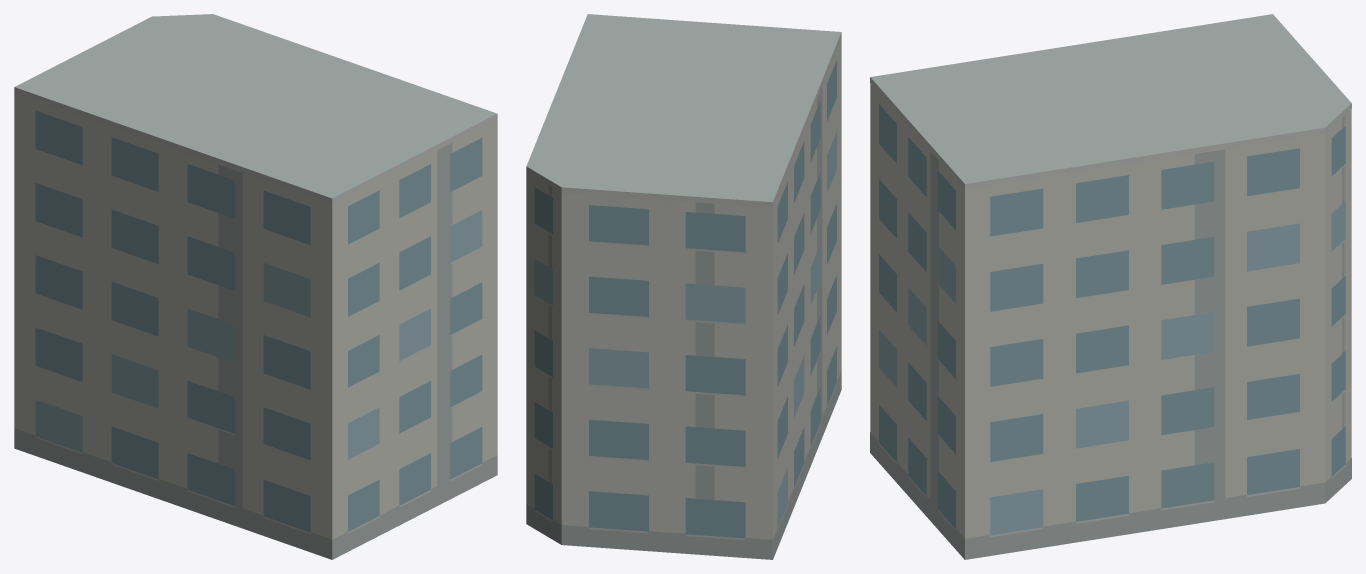
Rendered from survey-upis-32765997.glb.
3 views of the same model, side by side, from view 1: azimuth 30°, elevation 25°; view 2: azimuth 150°, elevation 25°; view 3: azimuth 270°, elevation 25° (orthographic). The views are drawn at different scales.
Visible parts, largest first — view 1: survey-upis-32765997.tmp; view 2: survey-upis-32765997.tmp; view 3: survey-upis-32765997.tmp.
Part boxes in pixels (box(x1,y1,x2,y2)): survey-upis-32765997.tmp: box(14, 14, 497, 559); survey-upis-32765997.tmp: box(526, 14, 841, 559); survey-upis-32765997.tmp: box(870, 14, 1351, 559).
Bounding box in the file's own units: 14.81 × 15.25 × 17.72.
